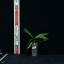leaf: (25, 38, 34, 53), (23, 28, 34, 39), (35, 33, 49, 38), (27, 41, 34, 49), (38, 36, 49, 39), (38, 38, 48, 41), (35, 39, 43, 41), (36, 41, 44, 42)
